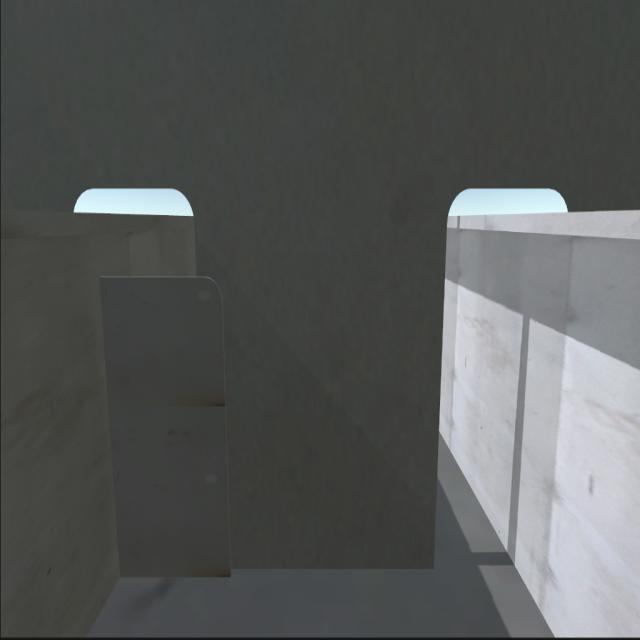fillet_yong_jeop_jang: (116, 564, 440, 582)
longi_yong_jeop_jang: (92, 275, 132, 583)
plate_CP05: (100, 278, 232, 586)
